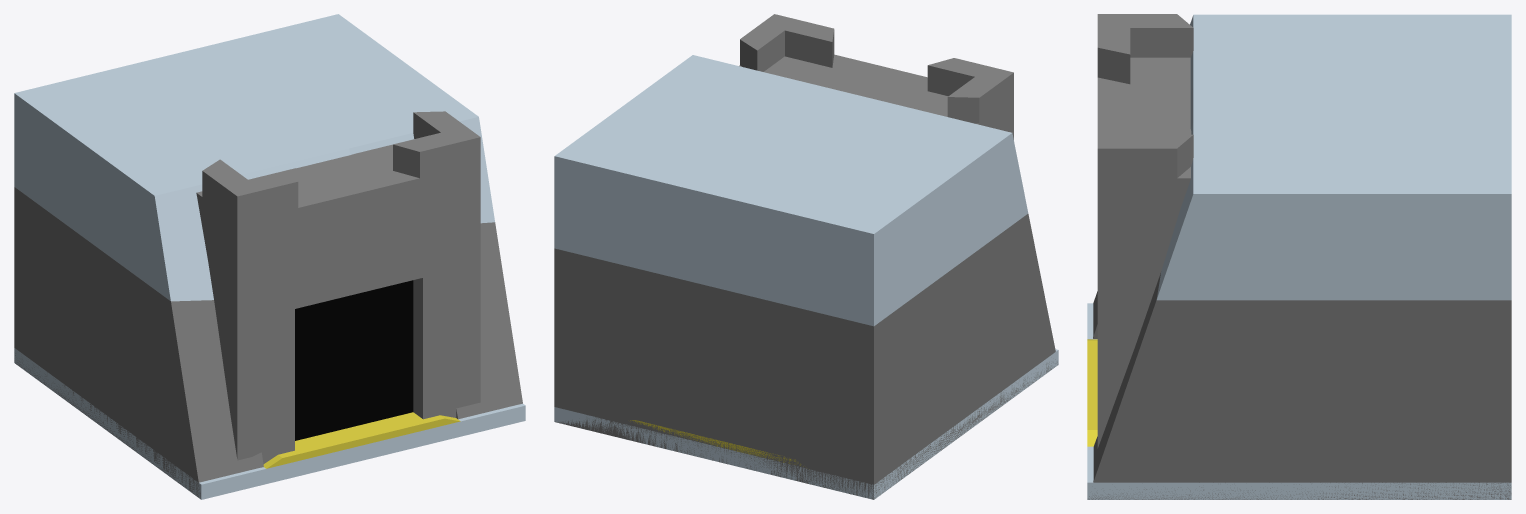
File: world28.fbx
3 renders of one model, left to right at view 1: azimuth 30°, elevation 25°; view 2: azimuth 150°, elevation 25°; view 3: azimuth 270°, elevation 25°, orthographic. The views are drawn at different scales.
Visible parts, largest first — view 1: Cube.144, Cube.145, Cube.143, Cube.146; view 2: Cube.144, Cube.145, Cube.143, Cube.146; view 3: Cube.144, Cube.145, Cube.143, Cube.146.
Part boxes in pixels (<box>): Cube.144: <box>14,14,522,497</box>; Cube.145: <box>196,111,480,464</box>; Cube.143: <box>14,348,525,499</box>; Cube.146: <box>263,412,460,468</box>; Cube.144: <box>554,55,1057,499</box>; Cube.145: <box>739,14,1013,139</box>; Cube.143: <box>554,349,1058,499</box>; Cube.146: <box>630,420,809,469</box>; Cube.144: <box>1088,14,1511,499</box>; Cube.145: <box>1097,14,1193,448</box>; Cube.143: <box>1087,303,1511,499</box>; Cube.146: <box>1087,339,1097,446</box>.
Bounding box in the file's own units: 400 × 342 × 400.
